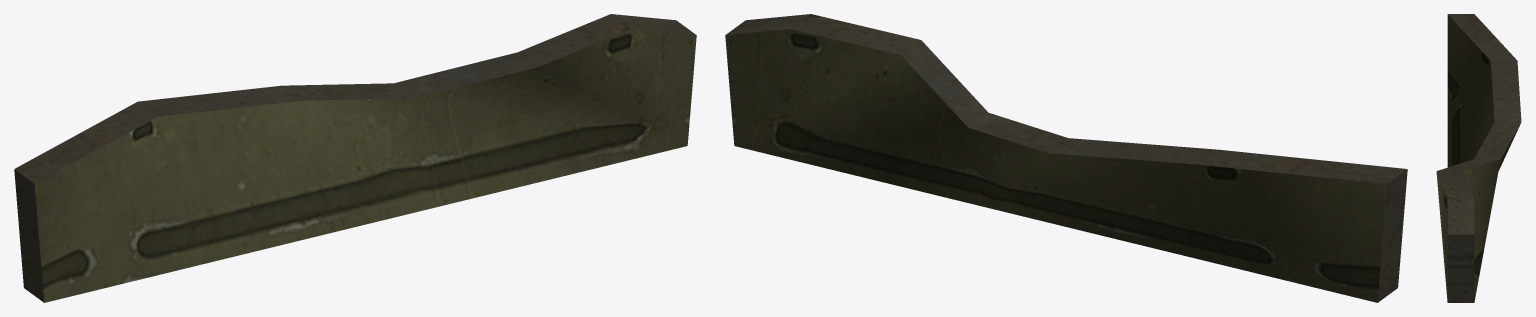
File: slidedoor_data_tunnel_damaged_03_08.DAE
The picture shows the model from 3 angles, left to right: view 1: azimuth 30°, elevation 25°; view 2: azimuth 150°, elevation 25°; view 3: azimuth 270°, elevation 25°; orthographic projection. The views are drawn at different scales.
Visible parts, largest first — view 1: slidedoor_data_tunnel_damaged_03_08; view 2: slidedoor_data_tunnel_damaged_03_08; view 3: slidedoor_data_tunnel_damaged_03_08.
Boxes of the visible parts, box(x1,y1,x2,y2) form: slidedoor_data_tunnel_damaged_03_08: box(14, 14, 696, 302); slidedoor_data_tunnel_damaged_03_08: box(725, 14, 1407, 302); slidedoor_data_tunnel_damaged_03_08: box(1436, 14, 1521, 302).
Size of the model in its own units: 6.86 by 1.16 by 1.29.
